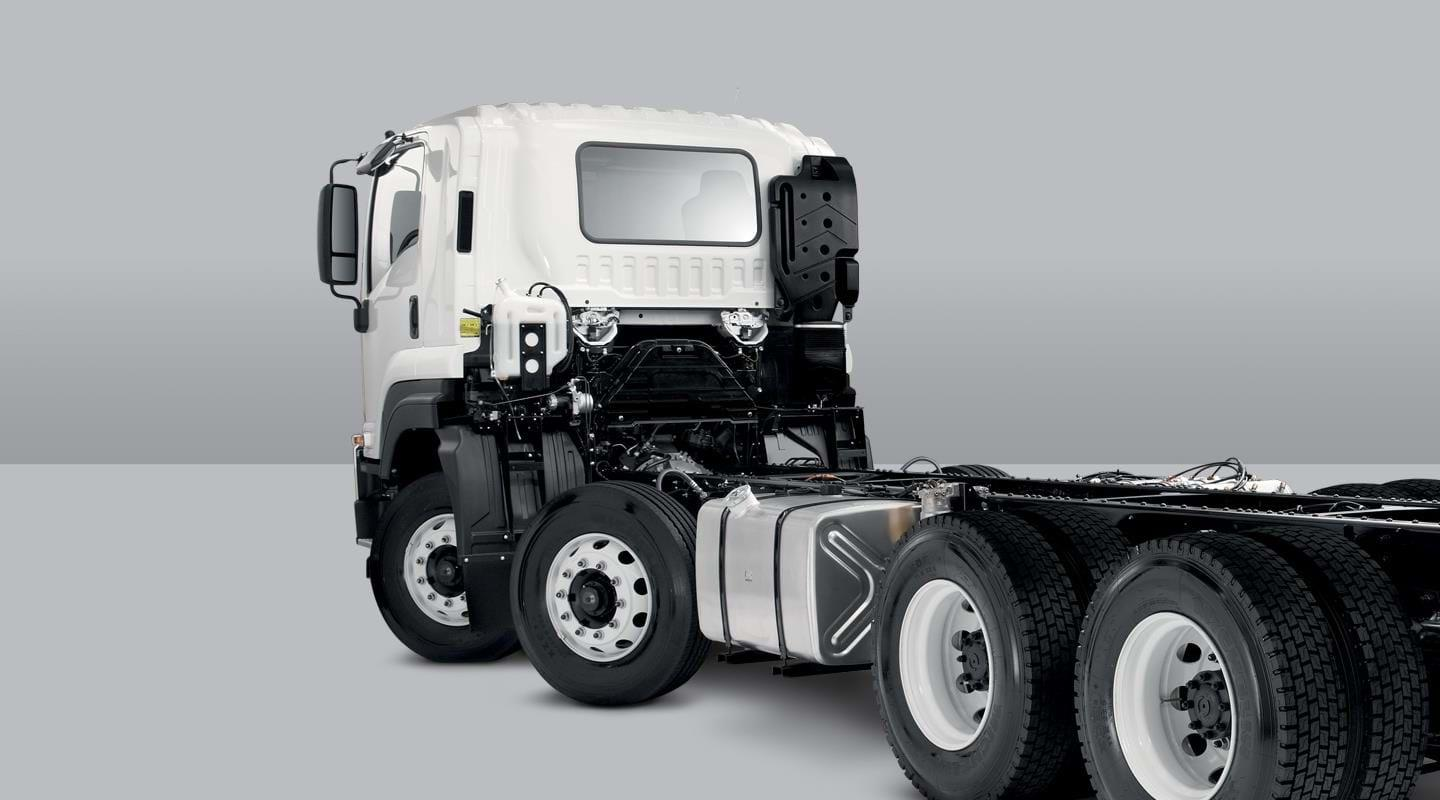truck: (318, 102, 1440, 800)
